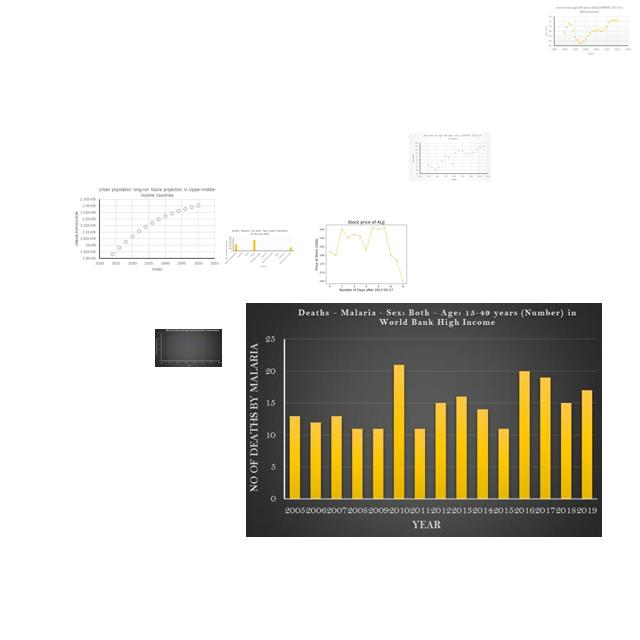Graph: (246, 303, 602, 537), (67, 185, 221, 276), (313, 215, 417, 293), (542, 4, 633, 56), (409, 133, 491, 181), (224, 228, 295, 268), (155, 329, 222, 367)
